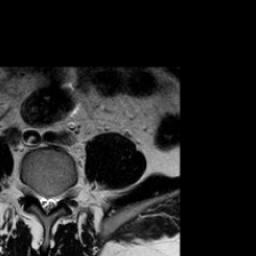CCS_normal: (44, 184, 51, 221)
LFS_normal: (58, 180, 66, 208)
LLS_normal: (51, 185, 58, 215)
RFS_normal: (30, 177, 37, 207)
RLS_normal: (37, 185, 44, 216)
